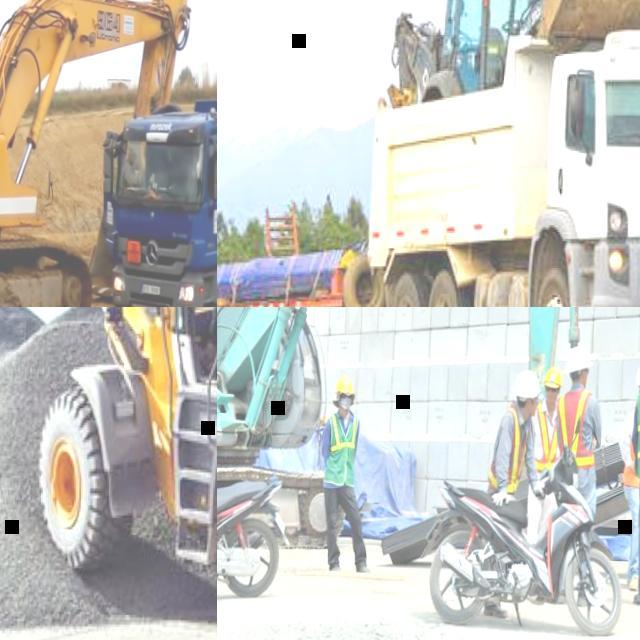helmet: (564, 346, 592, 374), (514, 370, 541, 396), (544, 367, 563, 389), (335, 376, 354, 394), (636, 366, 640, 388)
vest: (486, 402, 531, 496), (556, 388, 598, 468), (324, 412, 358, 483), (532, 398, 562, 472), (621, 438, 640, 488)
